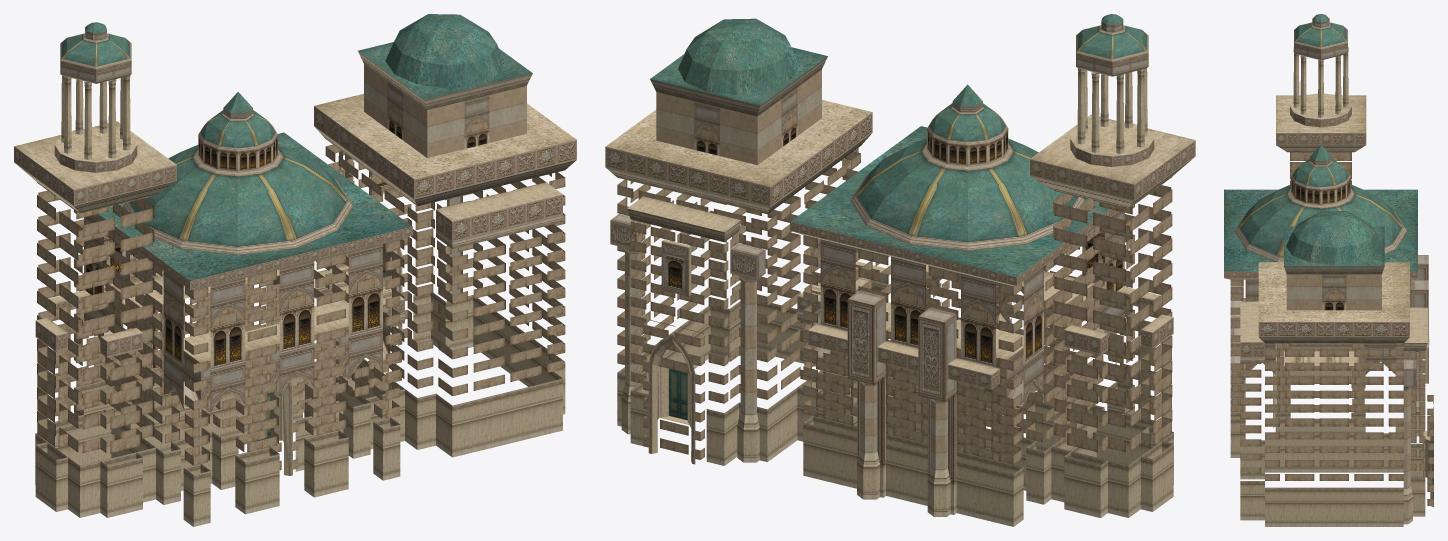
Rendered from thm_nboo_block_bldg_32x16_s02_l1.fbx.
3 renders of one model, left to right at view 1: azimuth 30°, elevation 25°; view 2: azimuth 150°, elevation 25°; view 3: azimuth 270°, elevation 25°, orthographic. The views are drawn at different scales.
Visible parts, largest first — view 1: mesh_node; view 2: mesh_node; view 3: mesh_node.
Part boxes in pixels (bbox=[...]): mesh_node: bbox=[14, 14, 576, 526]; mesh_node: bbox=[605, 14, 1195, 526]; mesh_node: bbox=[1224, 14, 1433, 526].
Bounding box in the file's own units: 32.07 × 29.25 × 15.74.
